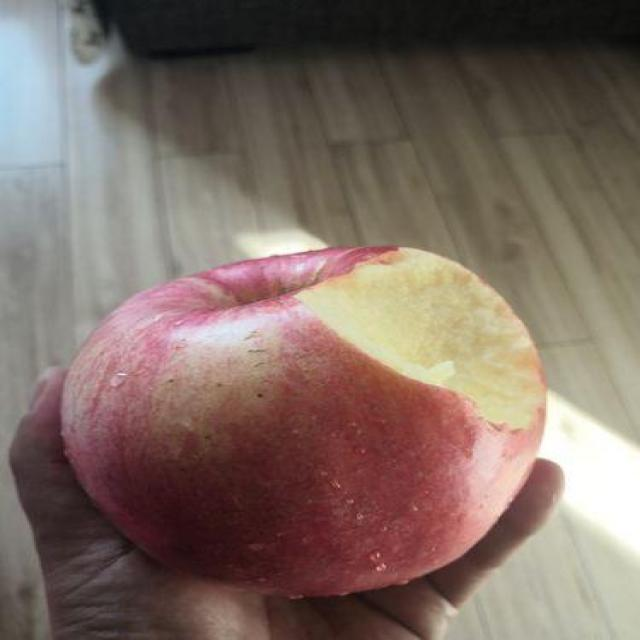Rotten: (55, 237, 552, 600)
